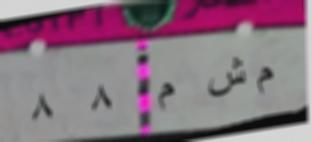8: (88, 82, 116, 115), (28, 95, 56, 125)
meem: (252, 63, 276, 96), (157, 79, 176, 113)
sheen: (207, 56, 248, 103)
